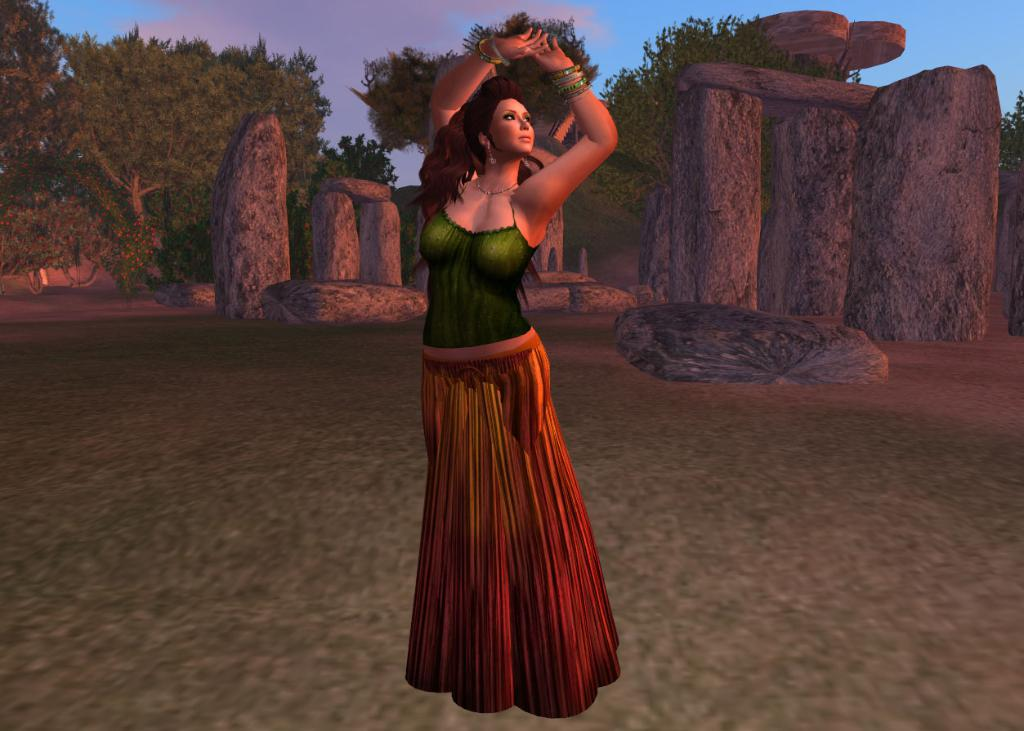Tree: (0, 0, 335, 296), (588, 3, 869, 226), (338, 9, 608, 160), (309, 127, 404, 210), (991, 77, 1023, 178)
